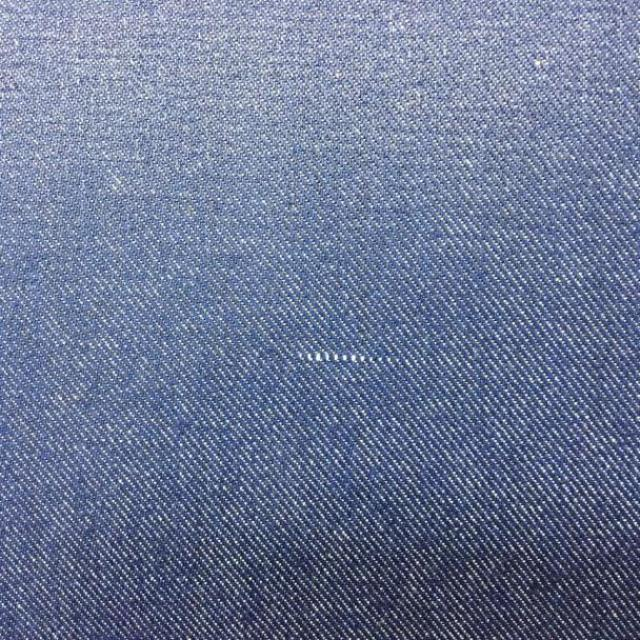Knot: (298, 352, 411, 367)
